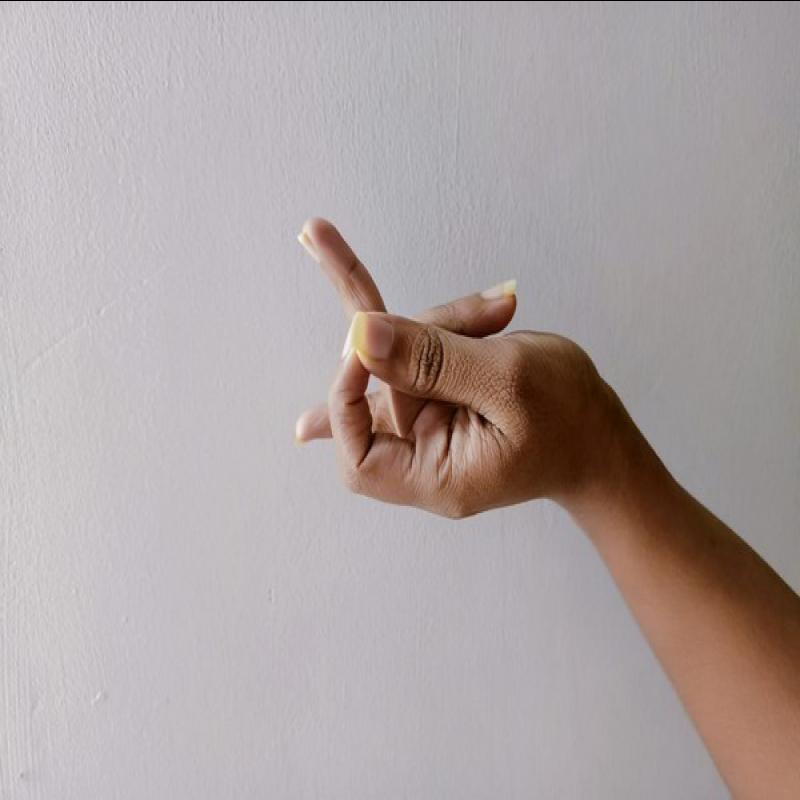Katakam: (262, 200, 614, 528)
